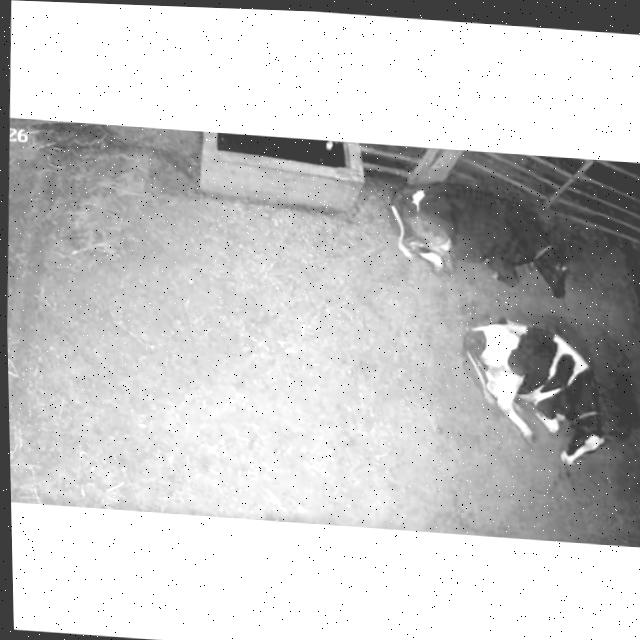lay: (432, 304, 636, 477), (379, 165, 595, 307)
